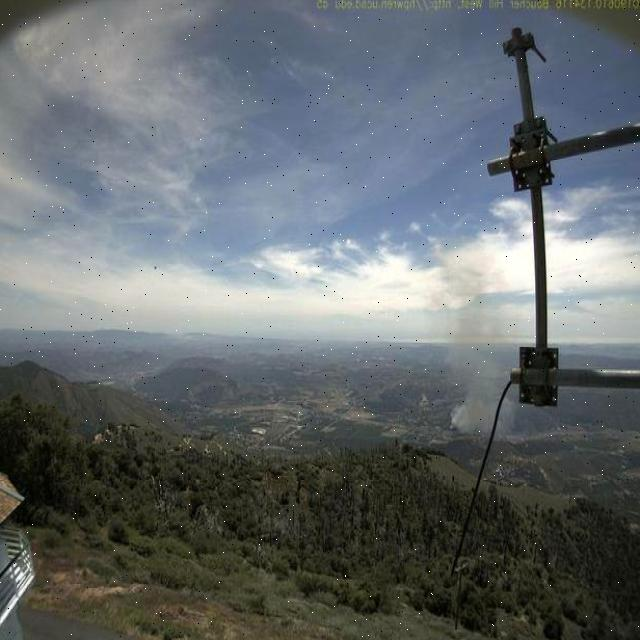smoke: (453, 256, 516, 433)
